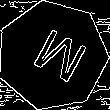M_SW: (20, 23, 85, 88)
